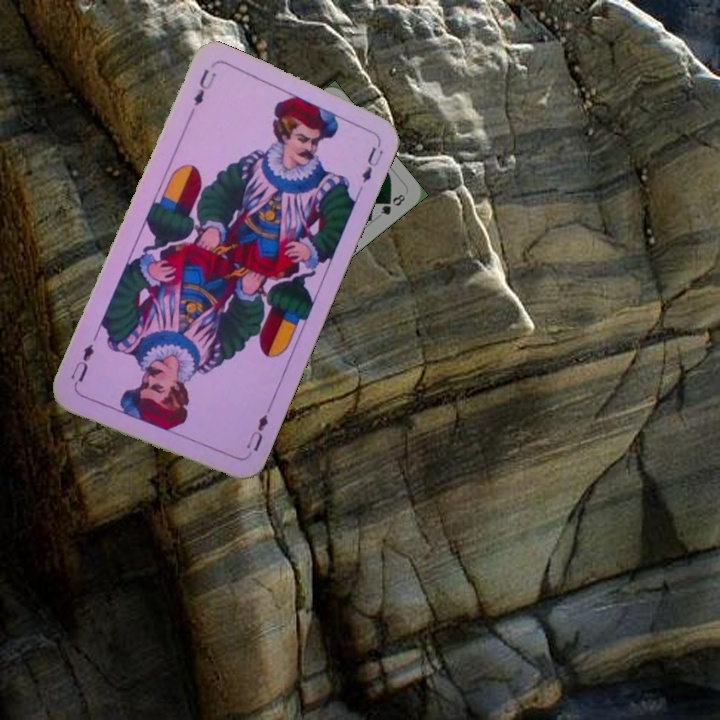EU: (189, 65, 219, 109), (242, 410, 271, 454)
